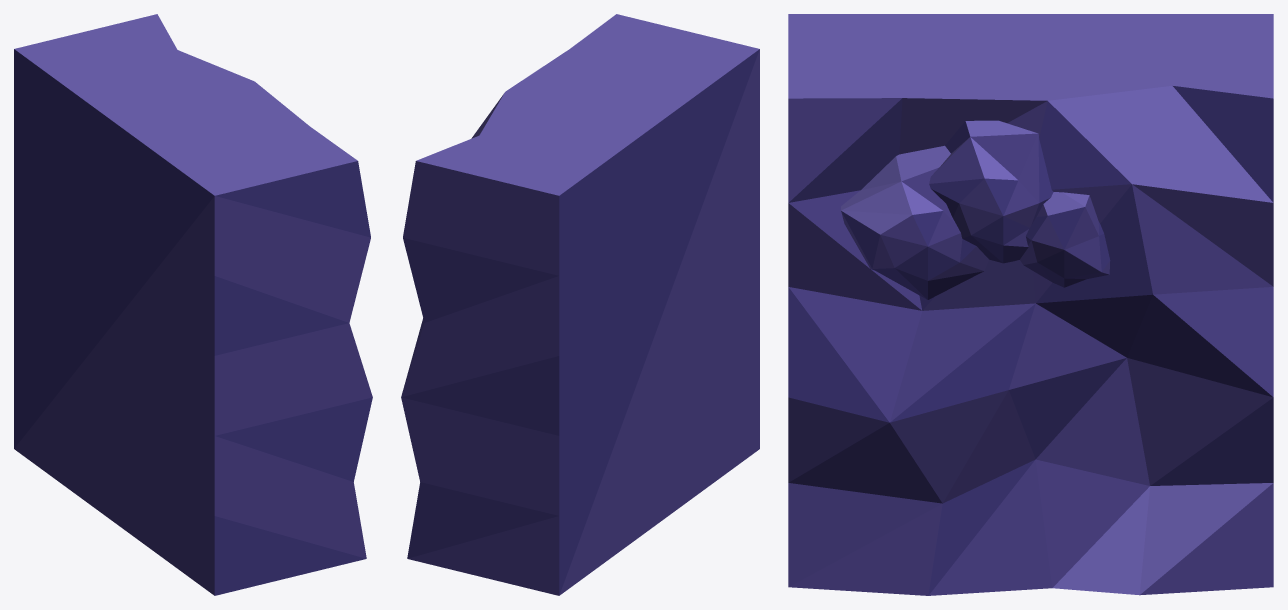
Rendered from Mine_Wall_Rock_C.obj.
3 renders of one model, left to right at view 1: azimuth 30°, elevation 25°; view 2: azimuth 150°, elevation 25°; view 3: azimuth 270°, elevation 25°, orthographic. The views are drawn at different scales.
Parts seen in each view (by area): view 1: Mine_Wall_Rock_C; view 2: Mine_Wall_Rock_C; view 3: Mine_Wall_Rock_C.
Part boxes in pixels (left/top/right/bottom): Mine_Wall_Rock_C: left=14, top=14, right=372, bottom=595; Mine_Wall_Rock_C: left=401, top=14, right=759, bottom=595; Mine_Wall_Rock_C: left=788, top=14, right=1273, bottom=595.
Size of the model in its own units: 2.06 by 4.4 by 4.
